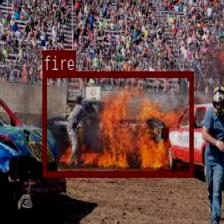fire: (42, 71, 192, 176)
